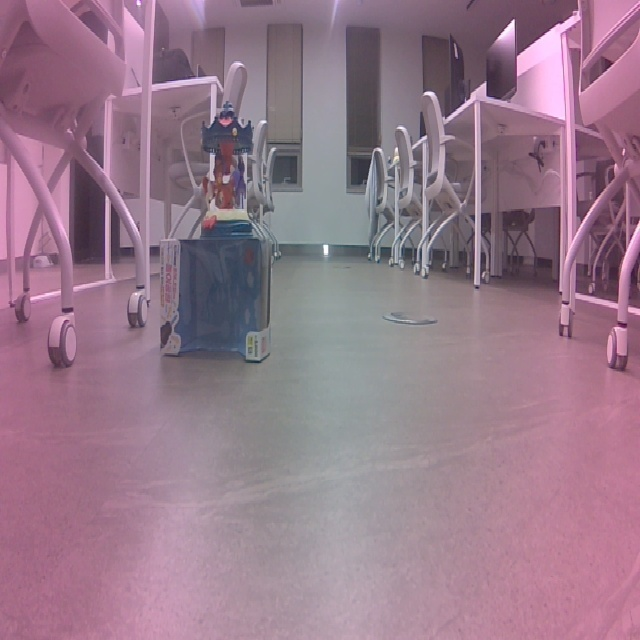목적지: (237, 88, 317, 224)
